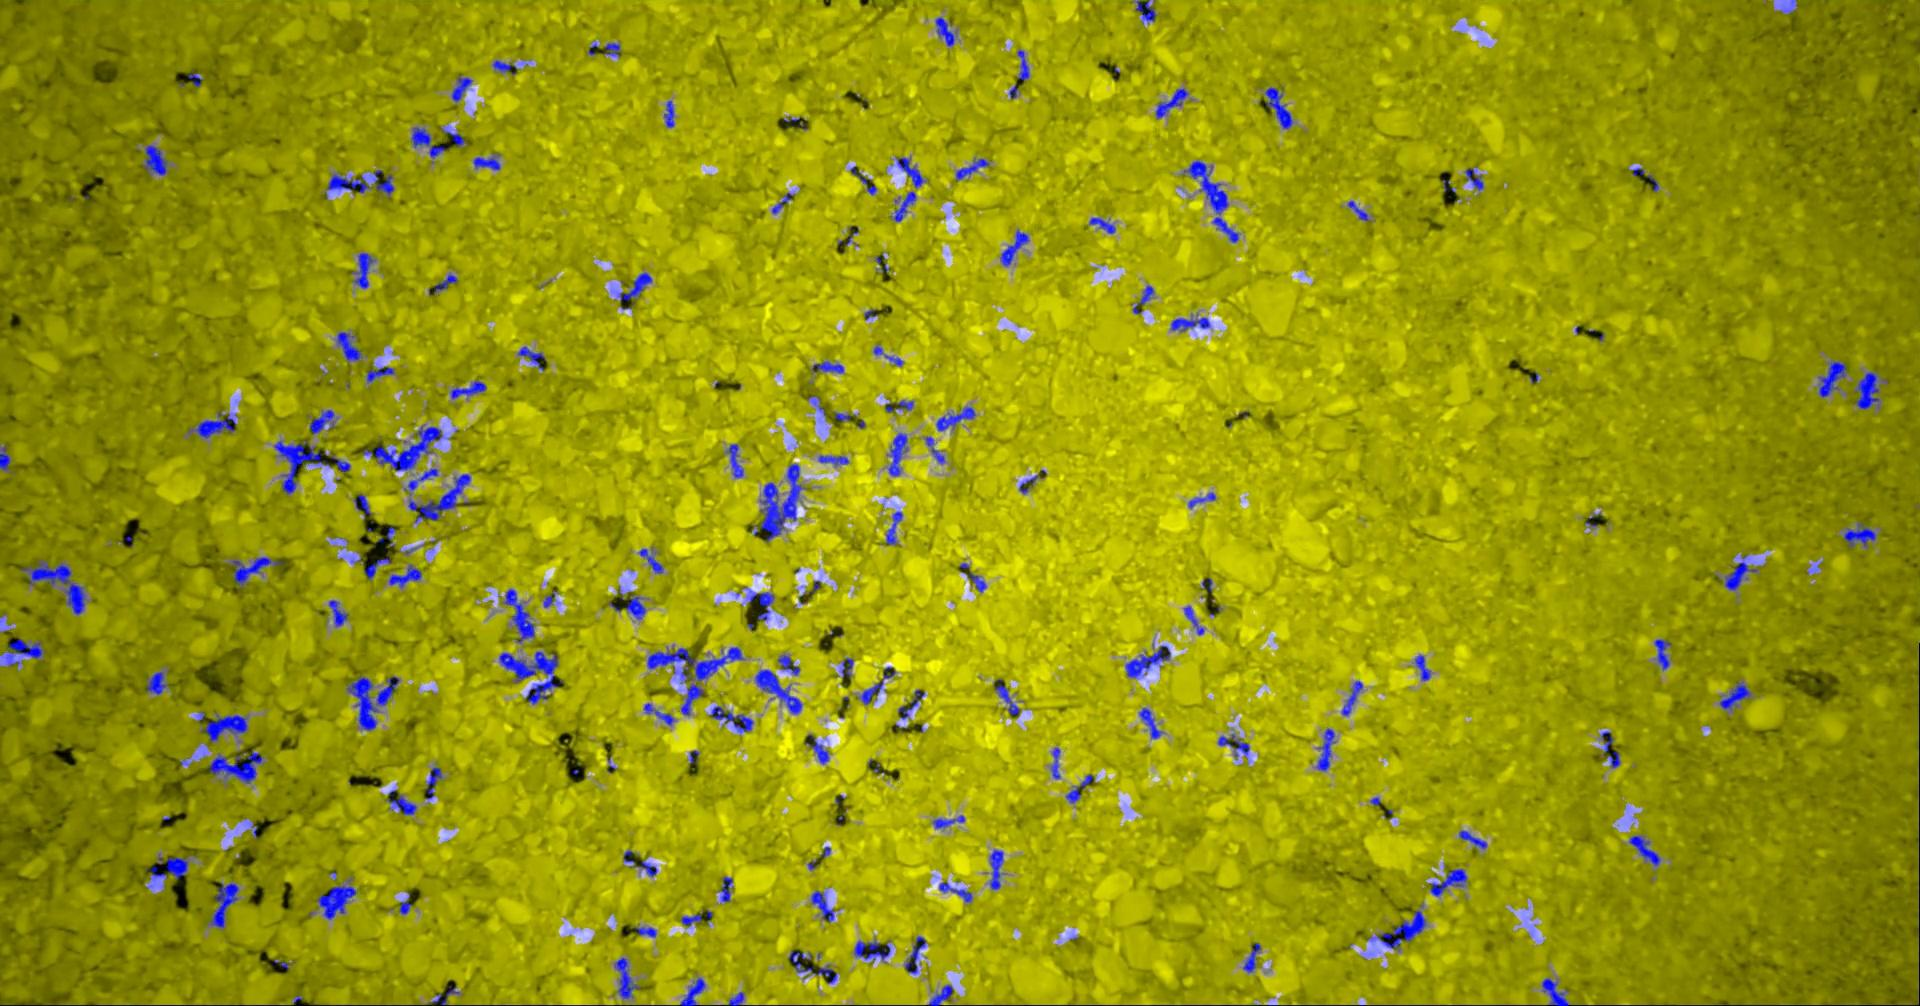ant: (1183, 160, 1238, 243), (274, 439, 350, 494), (22, 561, 85, 614), (408, 473, 470, 522), (345, 676, 399, 729), (1368, 909, 1425, 948), (756, 669, 801, 713), (210, 749, 262, 782), (504, 588, 535, 641), (317, 879, 356, 920), (231, 556, 283, 586), (789, 951, 836, 983), (198, 711, 248, 741), (1125, 645, 1170, 677), (860, 666, 895, 704), (210, 882, 237, 927), (1263, 86, 1291, 128), (411, 127, 450, 158), (1724, 555, 1757, 589), (709, 706, 752, 732), (196, 412, 235, 438), (999, 230, 1029, 265), (1818, 361, 1846, 398), (5, 638, 42, 666), (615, 956, 639, 998), (1430, 868, 1465, 895), (1628, 835, 1660, 865), (618, 272, 651, 301), (145, 856, 187, 879), (936, 406, 975, 431), (1156, 88, 1187, 117), (886, 432, 907, 476), (623, 850, 657, 876), (993, 680, 1018, 714), (1855, 371, 1878, 408), (897, 156, 923, 187), (1719, 682, 1750, 709), (898, 688, 924, 719), (328, 173, 370, 192), (1316, 728, 1335, 770), (1843, 523, 1876, 547), (959, 561, 985, 591), (1065, 774, 1092, 803), (748, 589, 773, 620), (386, 789, 417, 814), (904, 935, 924, 973), (1341, 680, 1363, 715), (389, 564, 422, 587), (1217, 733, 1250, 756), (353, 251, 373, 288), (142, 145, 168, 174), (681, 683, 703, 715), (955, 158, 988, 179), (404, 467, 437, 489), (1542, 978, 1568, 1005), (337, 332, 362, 359), (1170, 314, 1209, 332), (893, 191, 916, 221), (643, 702, 673, 725), (1139, 708, 1162, 738), (517, 345, 545, 370), (679, 977, 703, 1005), (938, 882, 971, 902), (425, 984, 458, 1005), (805, 734, 828, 763), (811, 890, 833, 921), (1601, 730, 1619, 767), (855, 940, 889, 959), (450, 380, 485, 398), (935, 17, 956, 46), (309, 409, 334, 433), (637, 547, 662, 573), (1131, 285, 1153, 312), (363, 558, 391, 579), (1183, 605, 1204, 634), (625, 591, 645, 619), (989, 848, 1003, 889), (726, 443, 743, 478), (428, 274, 457, 293), (885, 511, 902, 544), (924, 436, 943, 464), (1458, 829, 1486, 848), (1242, 942, 1260, 972), (451, 76, 471, 102), (373, 169, 392, 196), (328, 600, 347, 626), (928, 984, 952, 1005), (771, 192, 792, 213), (1135, 0, 1156, 23), (1655, 639, 1670, 669), (425, 767, 441, 798), (1464, 166, 1483, 191), (366, 366, 392, 382), (1189, 492, 1215, 508), (777, 654, 799, 674), (146, 671, 165, 694), (1018, 475, 1043, 493), (1347, 199, 1368, 220), (811, 361, 843, 373), (932, 815, 964, 828), (1016, 50, 1029, 80), (1090, 217, 1115, 232), (1415, 654, 1430, 680), (377, 525, 395, 546), (472, 155, 499, 169), (850, 165, 869, 184), (491, 60, 516, 74), (717, 876, 731, 901), (354, 494, 371, 514), (884, 400, 912, 412), (783, 117, 808, 130), (663, 100, 674, 127), (444, 131, 463, 146), (399, 892, 411, 915), (1050, 747, 1059, 779), (818, 455, 848, 464), (875, 254, 889, 273), (841, 657, 853, 677), (631, 927, 655, 937), (0, 445, 9, 469), (728, 991, 743, 1005), (681, 915, 701, 925), (187, 72, 201, 86), (603, 42, 618, 55), (834, 412, 855, 420), (690, 749, 698, 763)
